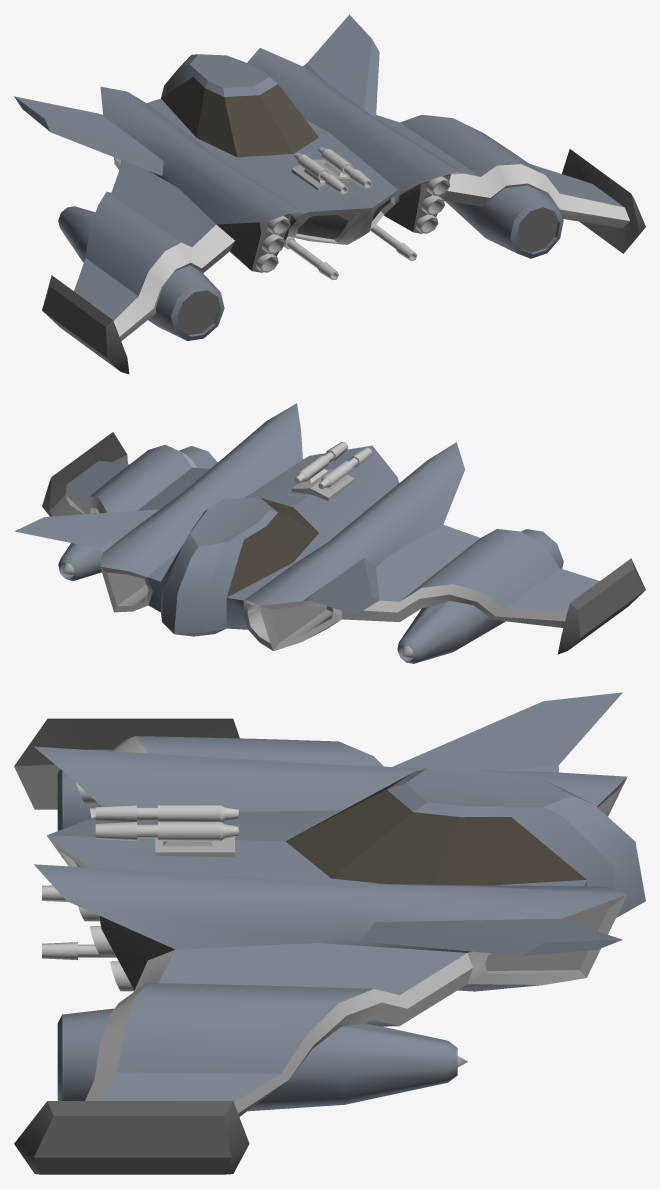
The model's file is esxolus_assault_fighter_model.fbx.
The picture shows the model from 3 angles, top to bottom: view 1: azimuth 30°, elevation 25°; view 2: azimuth 150°, elevation 25°; view 3: azimuth 270°, elevation 25°; orthographic projection. The views are drawn at different scales.
Parts seen in each view (by area): view 1: polySurface20; view 2: polySurface20; view 3: polySurface20.
Part boxes in pixels (left/top/right/bottom): polySurface20: left=14, top=14, right=645, bottom=374; polySurface20: left=14, top=403, right=645, bottom=663; polySurface20: left=14, top=692, right=645, bottom=1174.
Size of the model in its own units: 31.73 by 7.78 by 21.34.
